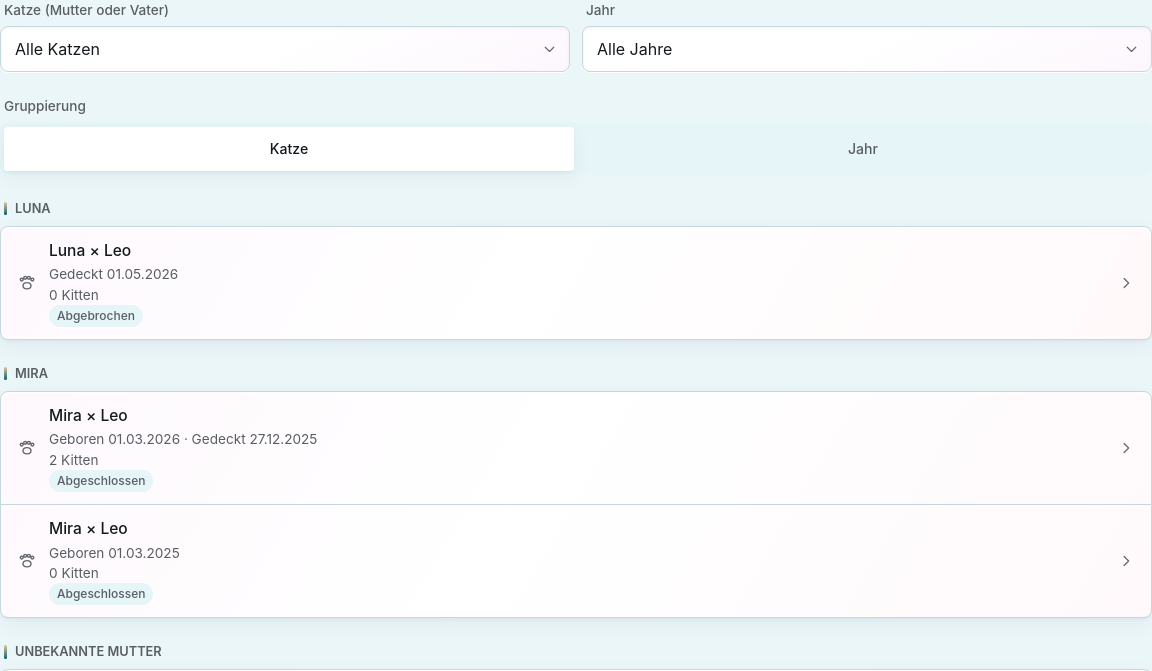
LitterArchive › combines parent and year filters, includes fathers, and keeps them when changing groups
The width and height of the screenshot is (1152, 671).
Select "Leo" in the dropdown labelled "Katze (Mutter oder Vater)": (285, 49) [0,26,570,72]
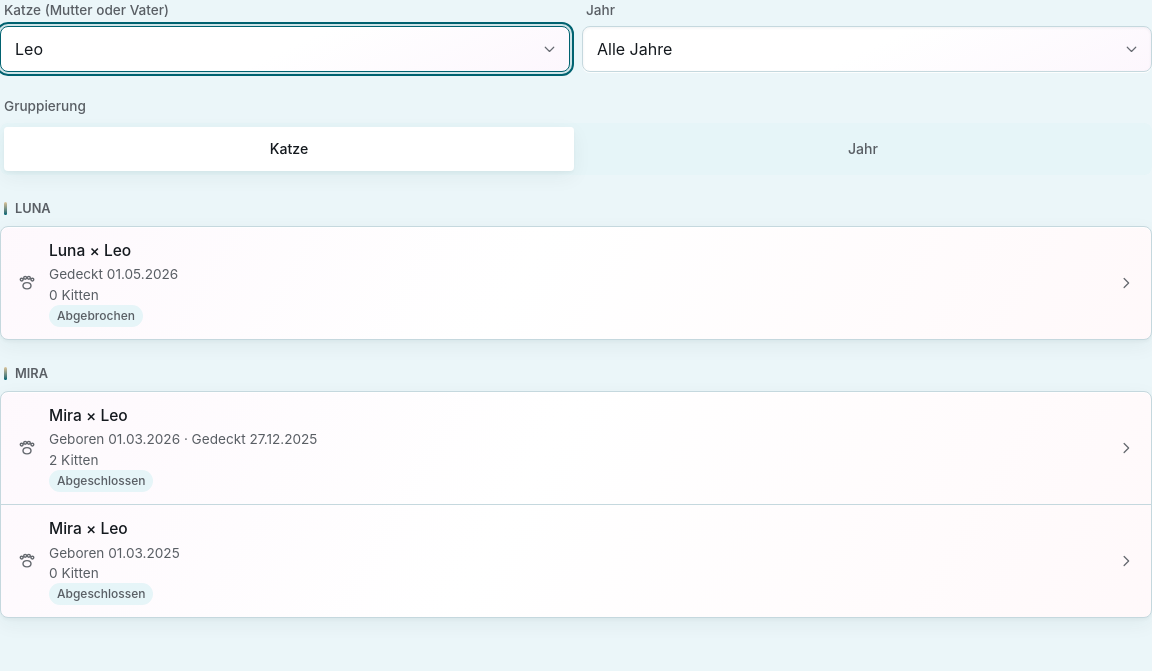
Select "2026" in the dropdown labelled "Jahr": (867, 49) [582,26,1151,72]
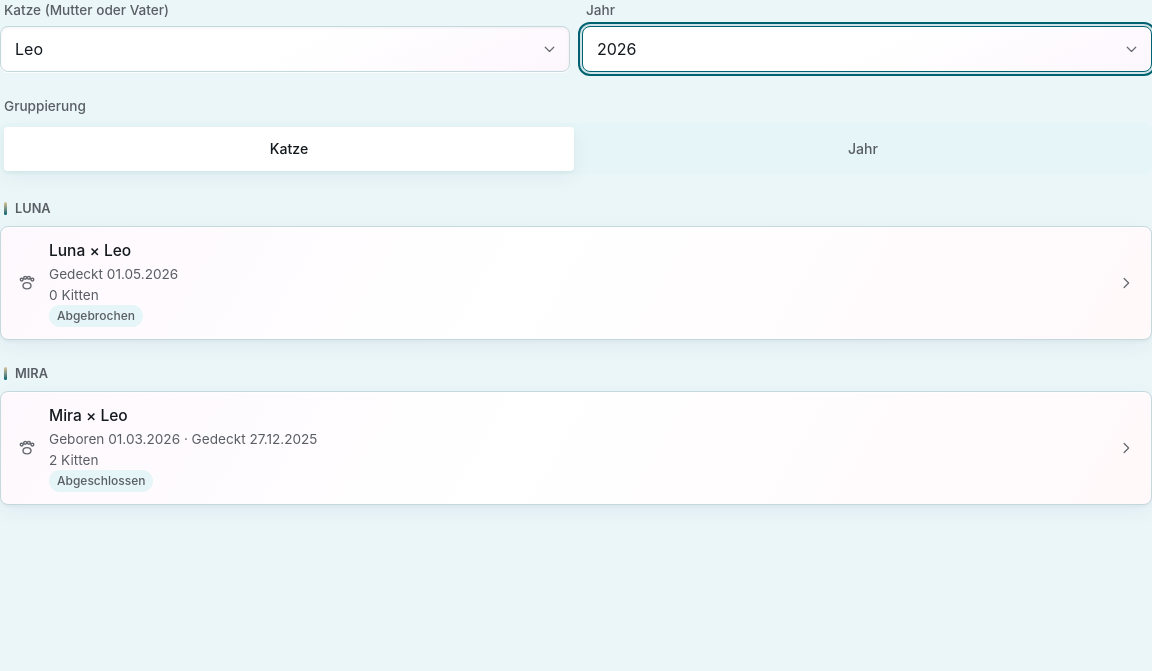
Expected: the button "Luna × Leo Gedeckt 01.05.2026 0 Kitten Abgebrochen" is shown, [1,227,1151,339]
Now the number of buttons is 2, box [1,227,1151,339]; [1,392,1151,504]
Click the radio button labelled "Jahr": click(863, 149) [578,127,1148,171]
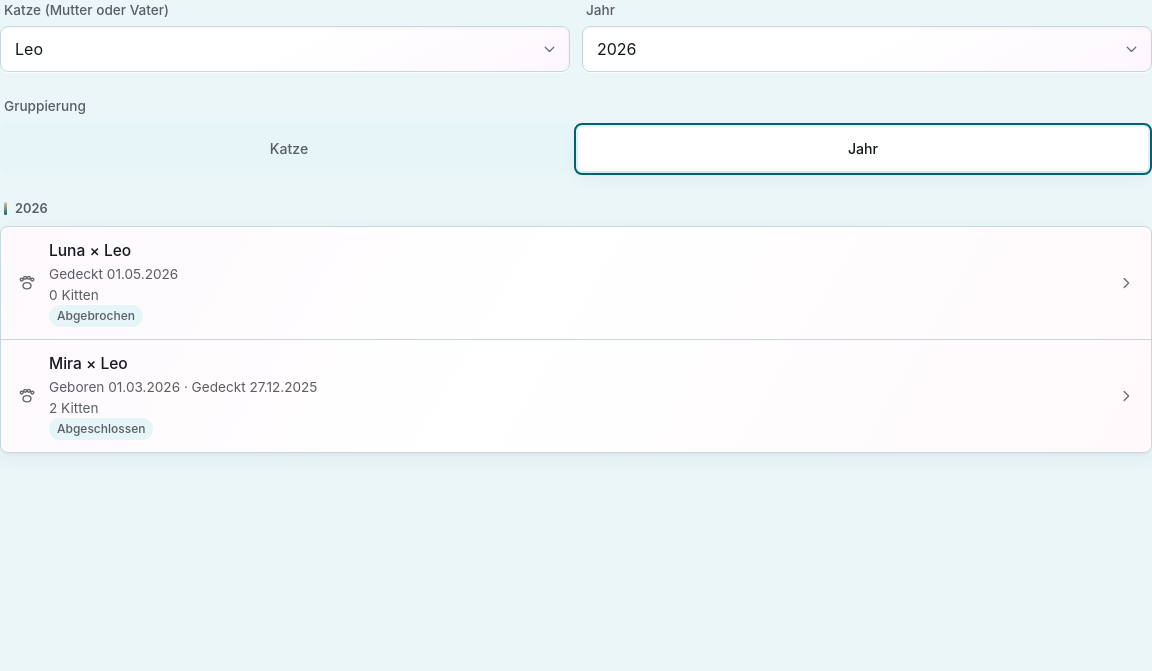
Now the number of buttons is 2, box [1,227,1151,339]; [1,339,1151,452]
Now the headings read "2026", in this order, box [15,201,48,216]
Select "Mira" in the dropdown labelled "Katze (Mutter oder Vater)": (285, 49) [0,26,570,72]
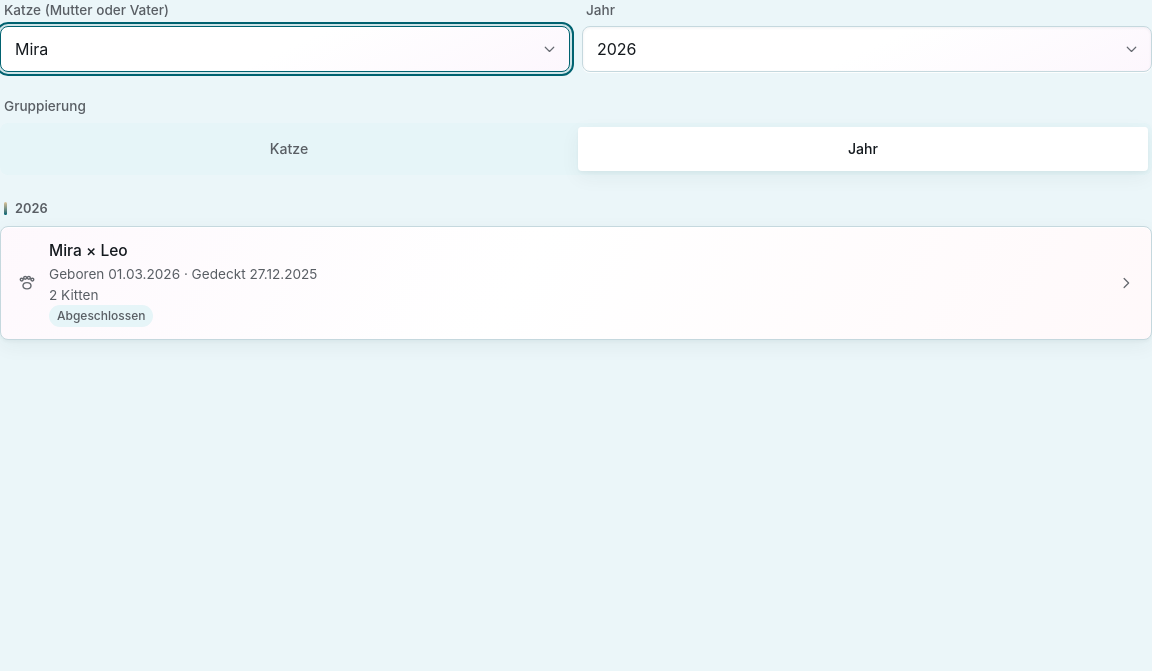
Now the number of buttons is 1, box [1,227,1151,339]
